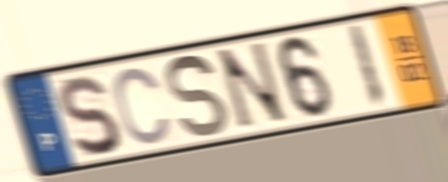6: (275, 32, 336, 123)
C: (111, 65, 174, 148)
I: (344, 21, 389, 112)
N: (213, 39, 293, 135)
S: (55, 73, 122, 161), (165, 52, 231, 141)
